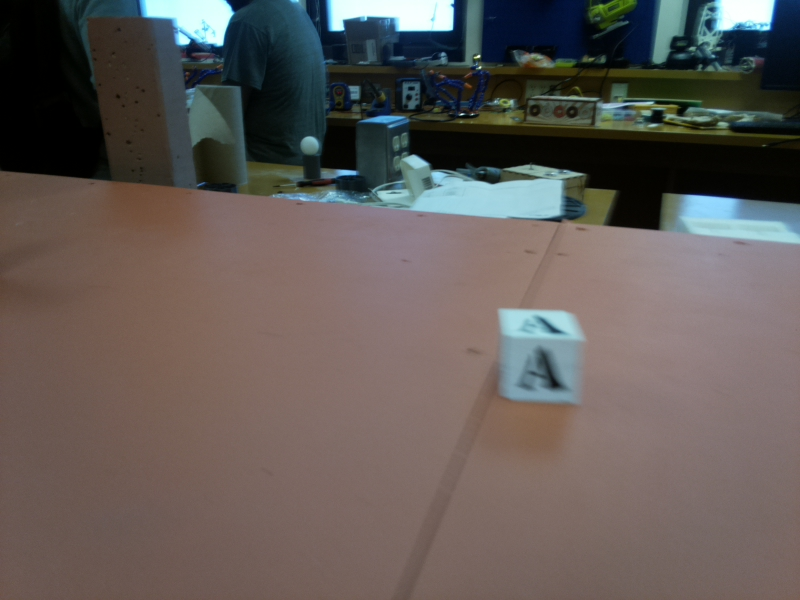blockA: (503, 310, 586, 405)
